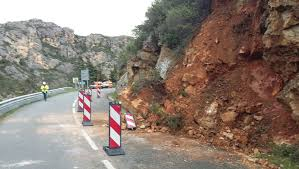obstacle: (104, 98, 127, 161), (81, 92, 96, 130), (124, 110, 137, 133), (77, 91, 84, 113), (96, 86, 102, 100), (88, 86, 93, 98)
person: (39, 79, 53, 105)
